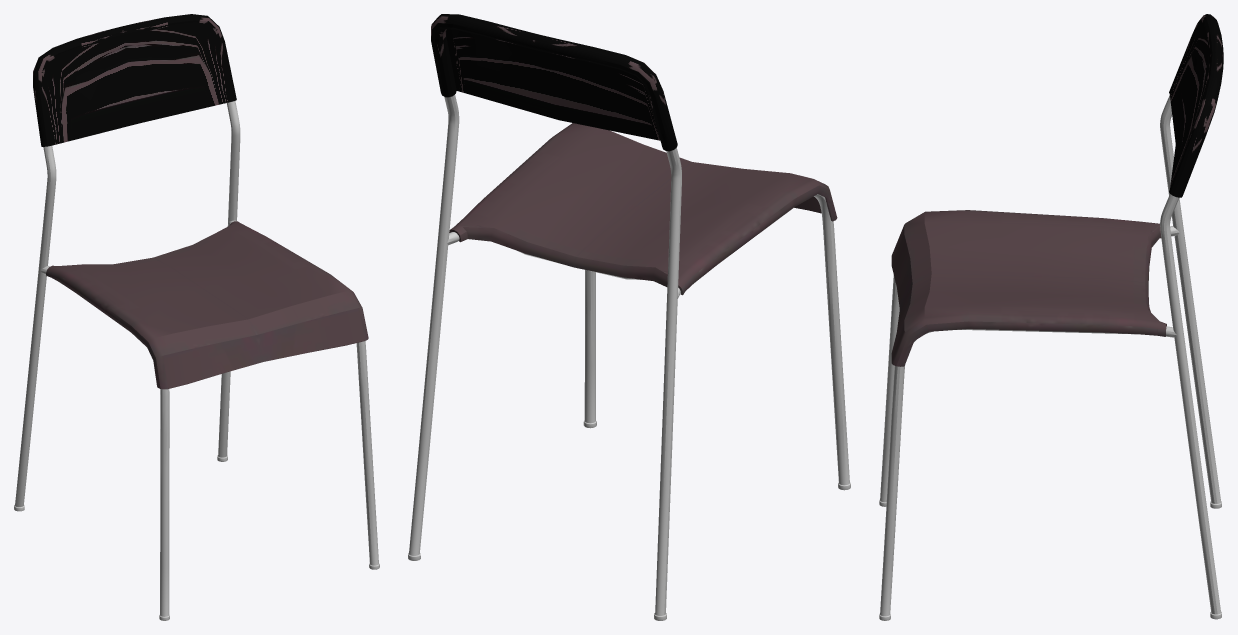
File: volta_stack_chair.glb
The picture shows the model from 3 angles, left to right: view 1: azimuth 30°, elevation 25°; view 2: azimuth 150°, elevation 25°; view 3: azimuth 270°, elevation 25°; orthographic projection. The views are drawn at different scales.
Parts seen in each view (by area): view 1: Cube.001, Cube.006, Cube.002; view 2: Cube.001, Cube.006, Cube.002; view 3: Cube.001, Cube.002, Cube.006.
Boxes of the visible parts, x1,y1,x2,y2 form: Cube.001: (46, 221, 368, 389); Cube.006: (33, 14, 236, 146); Cube.002: (14, 101, 379, 620); Cube.001: (449, 123, 837, 295); Cube.006: (431, 14, 677, 151); Cube.002: (408, 95, 850, 620); Cube.001: (891, 210, 1166, 366); Cube.002: (879, 95, 1221, 620); Cube.006: (1169, 14, 1223, 197).
Size of the model in its own units: 0.3852 by 0.7677 by 0.4709.
Materials: 2 (1 with a texture image).
